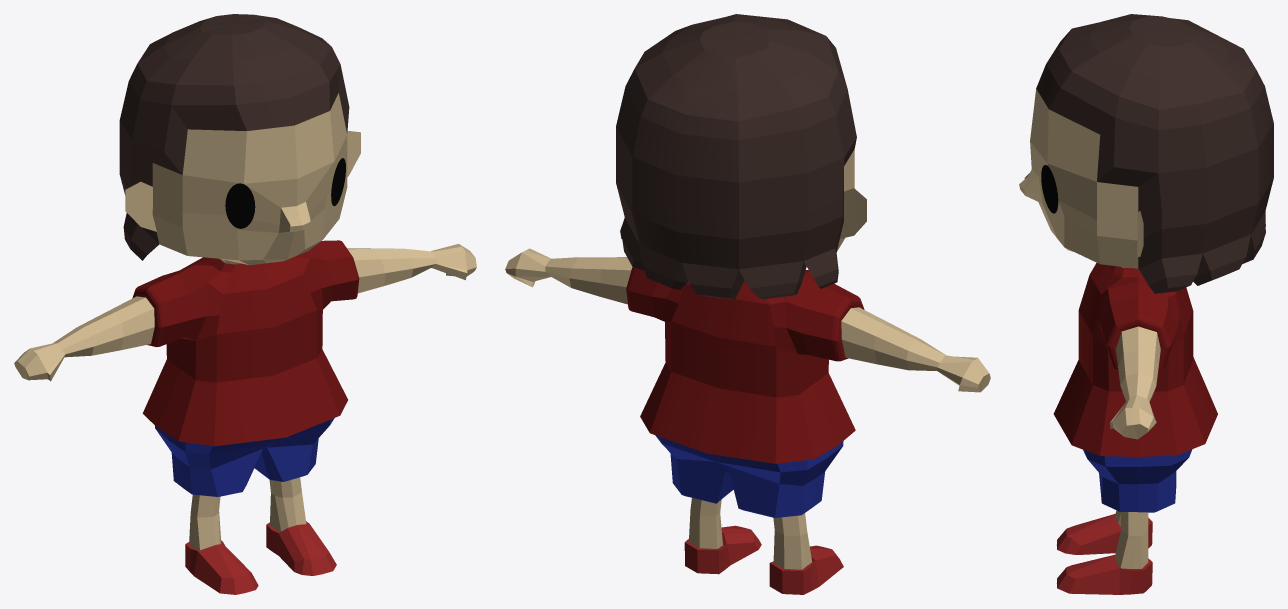
Rendered from Character_Textured.fbx.
3 views of the same model, side by side, from view 1: azimuth 30°, elevation 25°; view 2: azimuth 150°, elevation 25°; view 3: azimuth 270°, elevation 25° (orthographic). The views are drawn at different scales.
Parts seen in each view (by area): view 1: polySurface36; view 2: polySurface36; view 3: polySurface36.
Part boxes in pixels (x1,y1,x2,y2): polySurface36: [14, 14, 476, 594]; polySurface36: [505, 14, 990, 594]; polySurface36: [1019, 14, 1273, 594].
Bounding box in the file's own units: 10.3 × 11.47 × 4.91.
1 material, 1 textured.
